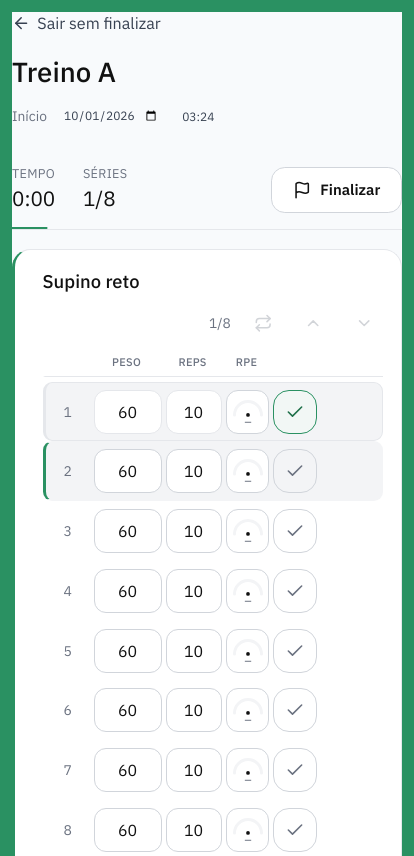
finishing a workout with sets still open › names what is being given up
Expected: the heading "Treino A" is shown, x1=12 y1=54 x2=116 y2=90
Click the button "Finalizar" at (336, 190), box x1=271 y1=167 x2=402 y2=213
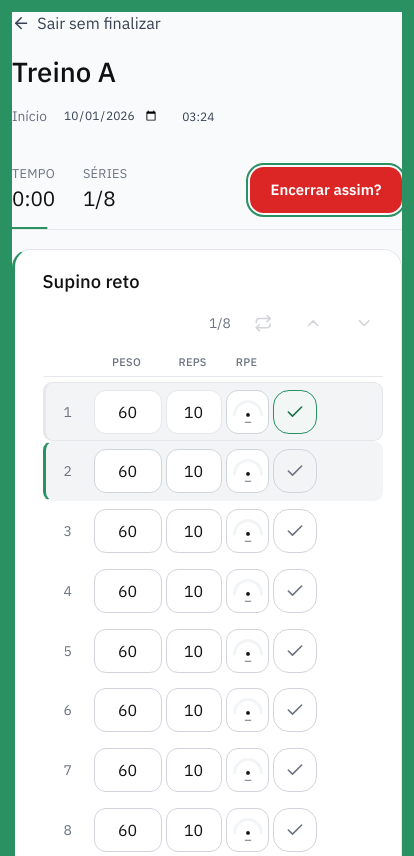
Expected: the button with aria-label "Encerrar assim? 7 séries ainda pendentes." is shown, x1=250 y1=167 x2=402 y2=213
